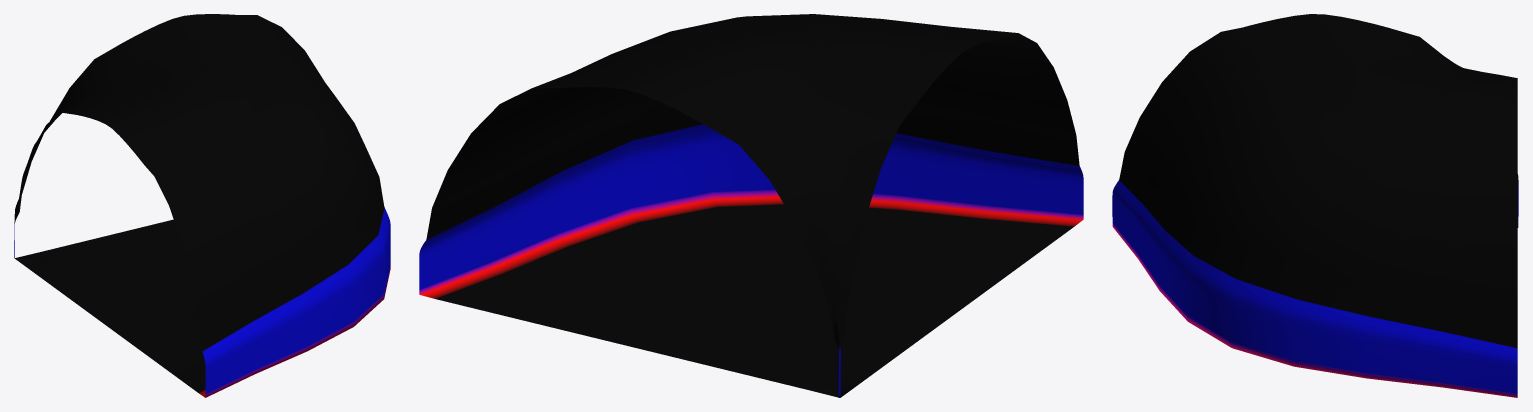
Rendered from TunnerCurveL.fbx.
3 renders of one model, left to right at view 1: azimuth 30°, elevation 25°; view 2: azimuth 150°, elevation 25°; view 3: azimuth 270°, elevation 25°, orthographic. The views are drawn at different scales.
Visible parts, largest first — view 1: TunnerCurveL; view 2: TunnerCurveL; view 3: TunnerCurveL.
Part boxes in pixels (x1=…): TunnerCurveL: x1=14, y1=14, x2=390, y2=397; TunnerCurveL: x1=419, y1=14, x2=1083, y2=397; TunnerCurveL: x1=1112, y1=14, x2=1518, y2=397.
Bounding box in the file's own units: 2003 × 1162 × 2006.
